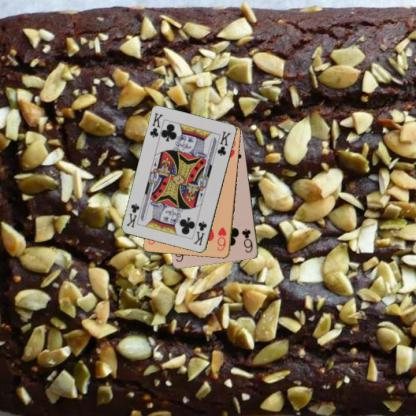6c: (239, 226, 254, 254)
6h: (214, 225, 228, 252)
Kc: (147, 110, 165, 140), (191, 219, 209, 247)
